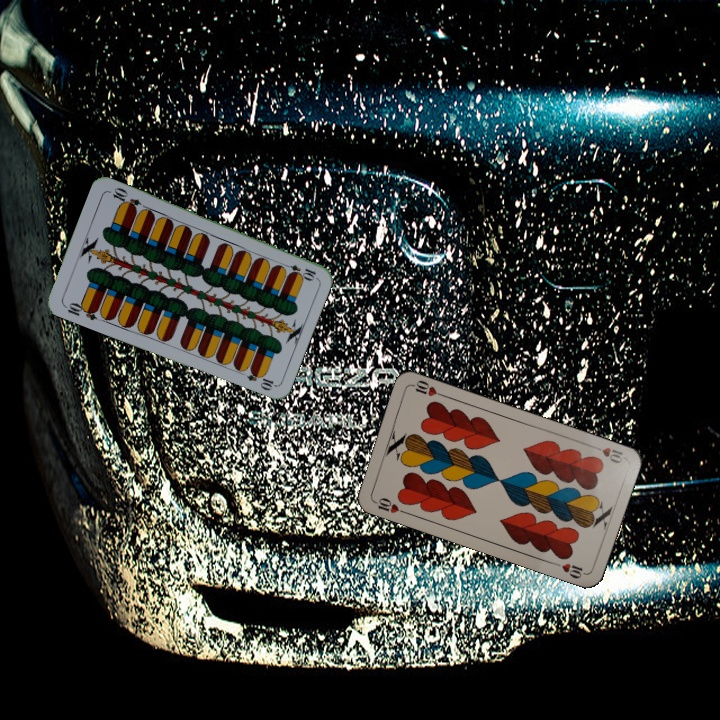E10: (60, 298, 101, 323), (278, 259, 318, 282)
H10: (588, 441, 625, 466), (369, 493, 409, 516)
